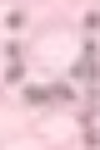CH_RUS: (0, 0, 99, 149)
